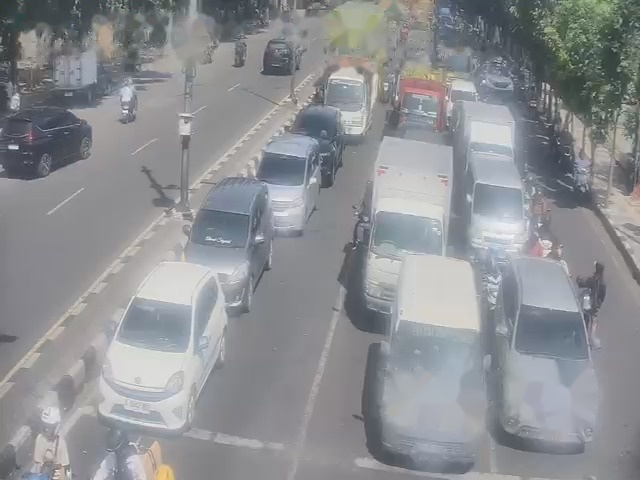Bis: (397, 62, 449, 132)
Mobil: (109, 259, 216, 429), (506, 264, 596, 445), (382, 257, 481, 421), (183, 172, 265, 300), (254, 130, 320, 230), (0, 109, 89, 181), (323, 66, 373, 135), (287, 102, 341, 162), (263, 35, 297, 75)
Motor: (119, 86, 135, 121), (532, 209, 545, 239)
Truk: (367, 128, 455, 308)
